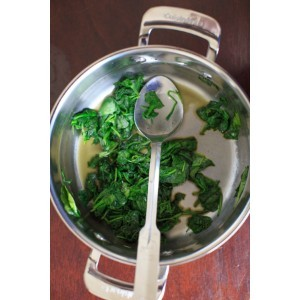spinach_brain food: (74, 82, 233, 235)
